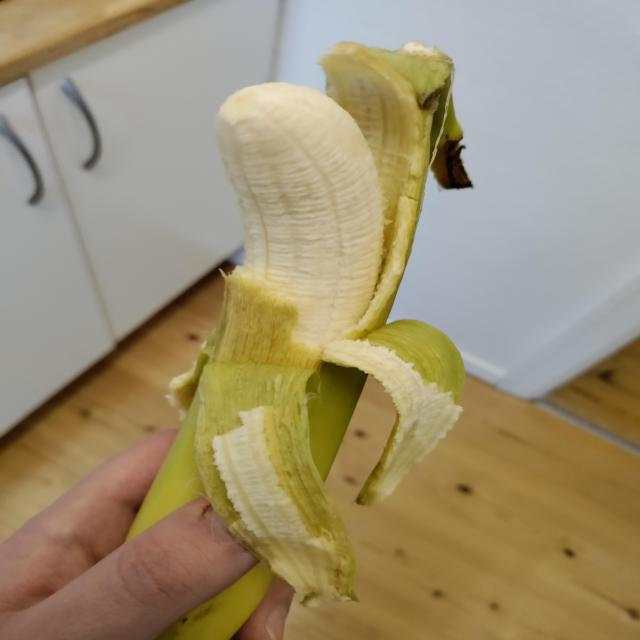banana_peel: (27, 14, 624, 634), (24, 22, 581, 633)
